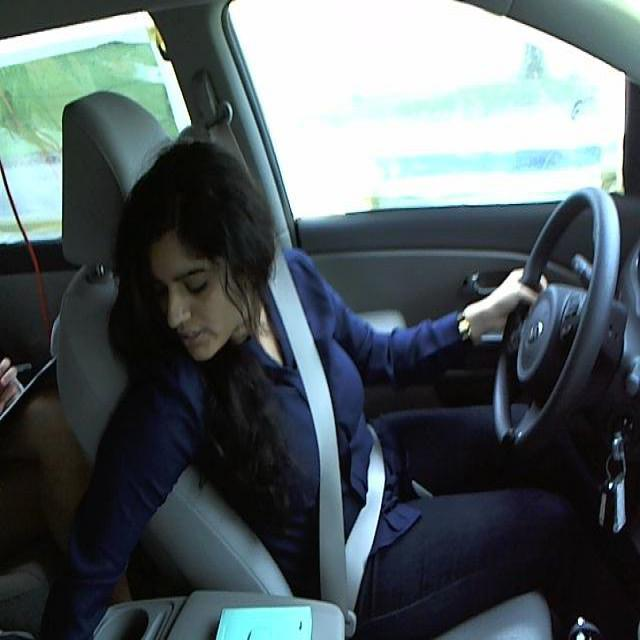seatbelt: (268, 273, 391, 600)
